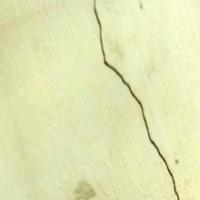crack: (91, 0, 186, 199)
